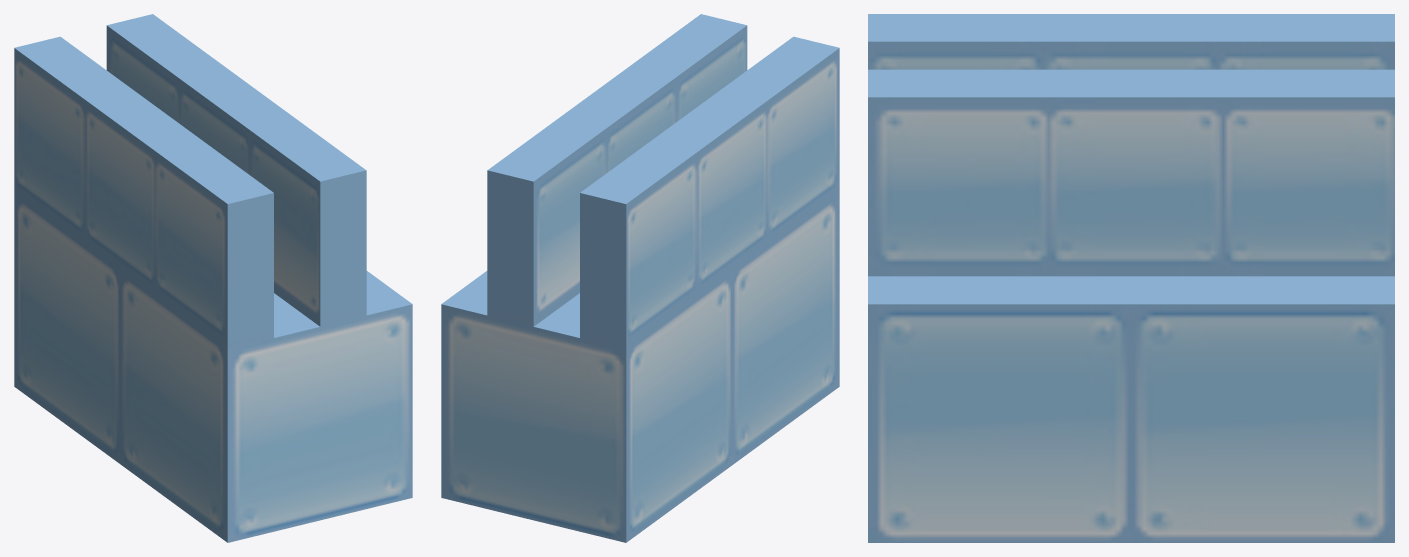
The model's file is dangerfloor2b.FBX.
The picture shows the model from 3 angles, left to right: view 1: azimuth 30°, elevation 25°; view 2: azimuth 150°, elevation 25°; view 3: azimuth 270°, elevation 25°; orthographic projection. The views are drawn at different scales.
Parts seen in each view (by area): view 1: dangerfloor 2b; view 2: dangerfloor 2b; view 3: dangerfloor 2b.
Part boxes in pixels (x1,y1,x2,y2): dangerfloor 2b: (14, 14, 412, 542); dangerfloor 2b: (441, 14, 839, 542); dangerfloor 2b: (868, 14, 1394, 542).
Size of the model in its own units: 19.69 by 34.45 by 39.37.
Materials: 1 (1 with a texture image).
